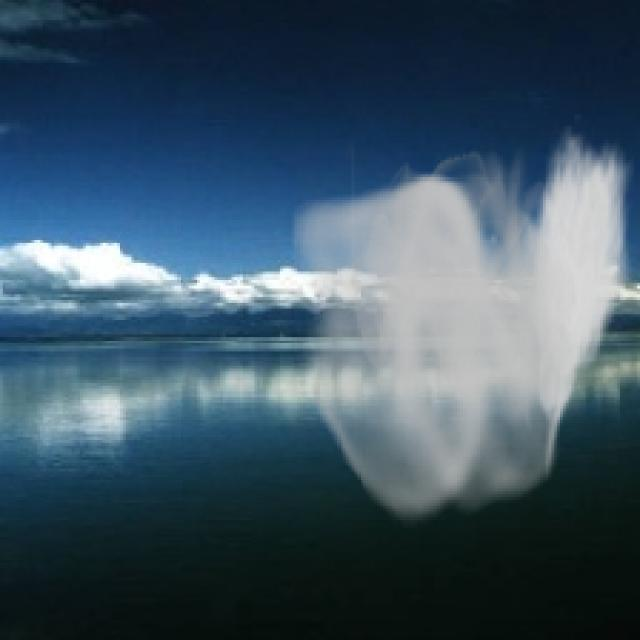Smoke: (292, 126, 634, 532)
